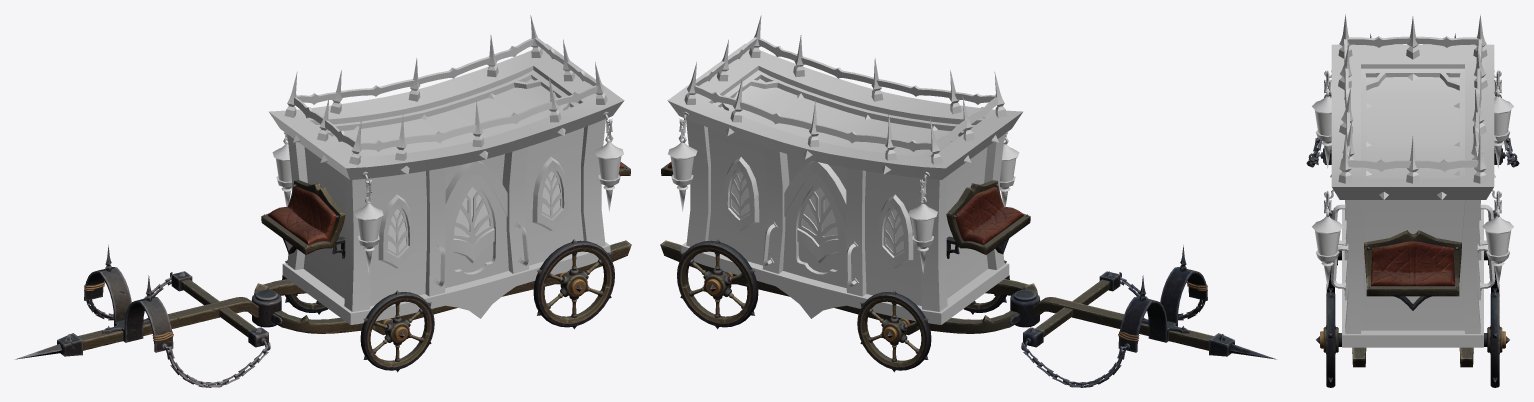
File: DarkhavenCarriage.fbx
3 renders of one model, left to right at view 1: azimuth 30°, elevation 25°; view 2: azimuth 150°, elevation 25°; view 3: azimuth 270°, elevation 25°, orthographic. The views are drawn at different scales.
Parts seen in each view (by area): view 1: Wagon_low, Cube.004, Wagon_low.002, Cube, Circle.002, Circle.003, Emission_low; view 2: Wagon_low, Cube.004, Wagon_low.002, Cube, Circle.001, Circle, Emission_low; view 3: Wagon_low, Wagon_low.001, Emission_low, Circle.001, Circle.002, Cube.004, Cube.
Boxes of the visible parts, box(x1,y1,x2,y2) form: Wagon_low: box(269, 15, 624, 324); Cube.004: box(15, 245, 270, 387); Wagon_low.002: box(261, 180, 345, 258); Cube: box(251, 240, 631, 335); Circle.002: box(533, 239, 614, 329); Circle.003: box(360, 290, 434, 372); Emission_low: box(275, 156, 621, 252); Wagon_low: box(667, 15, 1022, 324); Cube.004: box(1021, 245, 1276, 387); Wagon_low.002: box(946, 180, 1030, 258); Cube: box(660, 240, 1040, 335); Circle.001: box(677, 239, 758, 329); Circle: box(857, 290, 931, 372); Emission_low: box(670, 156, 1016, 252); Wagon_low: box(1312, 14, 1513, 347); Wagon_low.001: box(1364, 230, 1461, 310); Emission_low: box(1314, 110, 1511, 256); Circle.001: box(1484, 292, 1509, 387); Circle.002: box(1316, 292, 1341, 387); Cube.004: box(1306, 33, 1519, 167); Cube: box(1352, 347, 1473, 367).
Bounding box in the file's own units: 1010 × 416 × 300.
